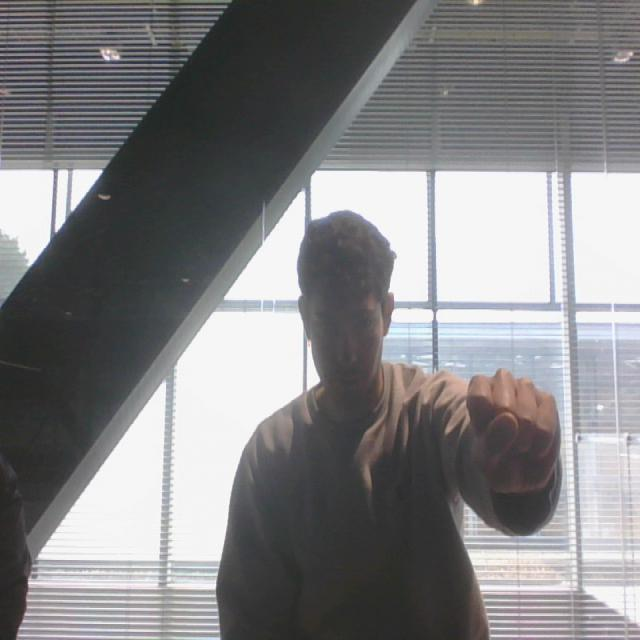stop: (456, 361, 564, 505)
